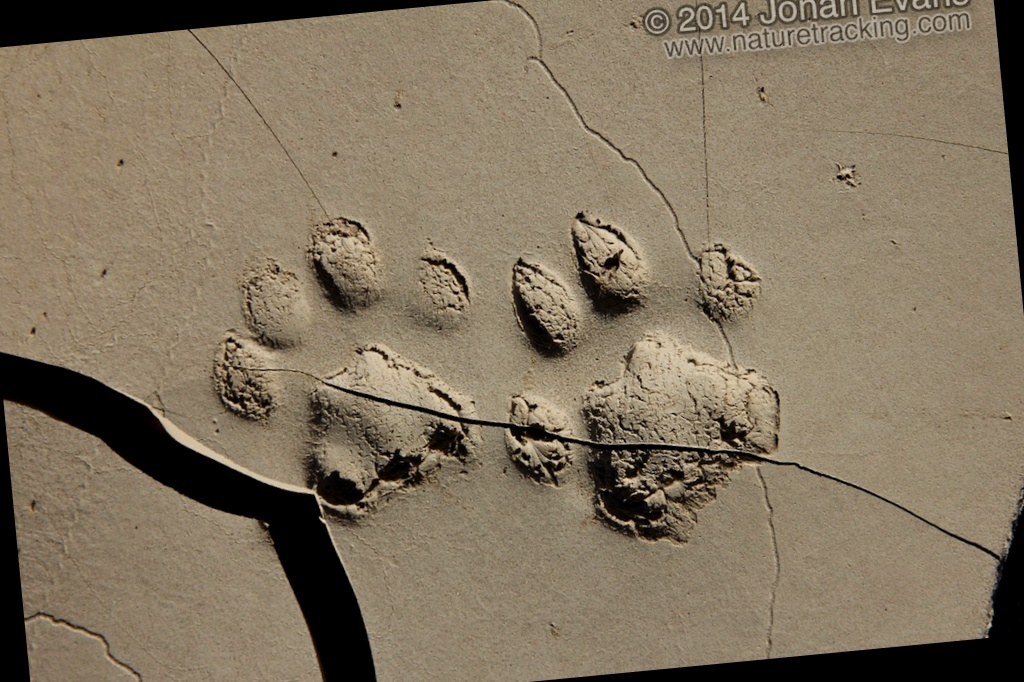lynx: (188, 166, 821, 614)
